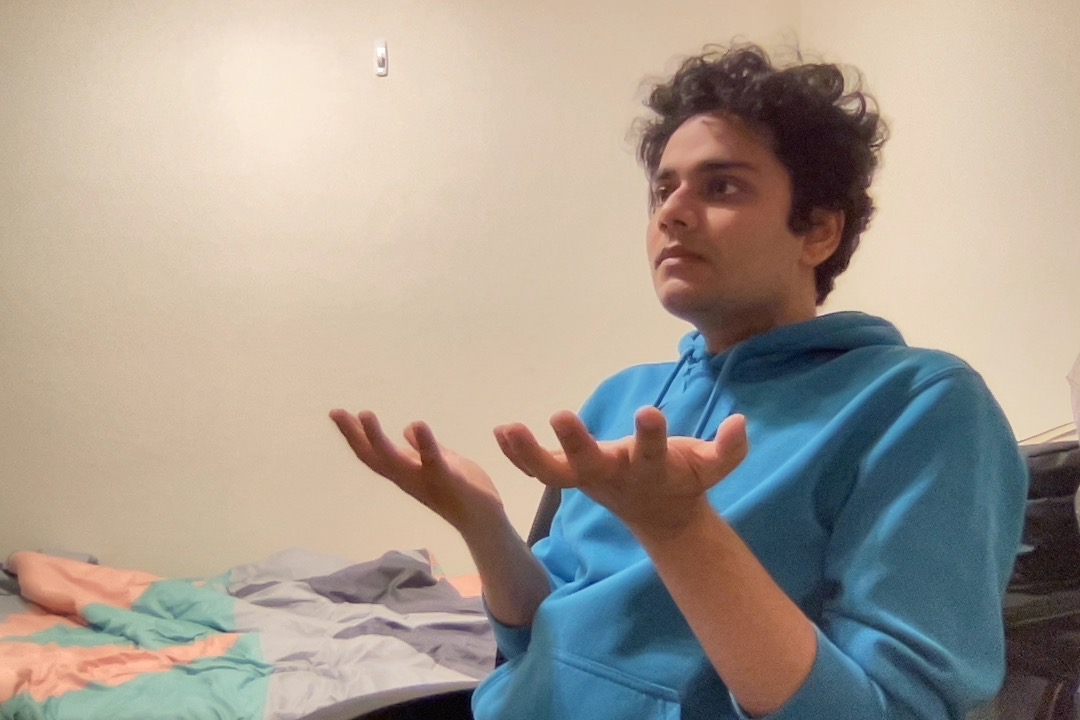What: (306, 379, 791, 573)
